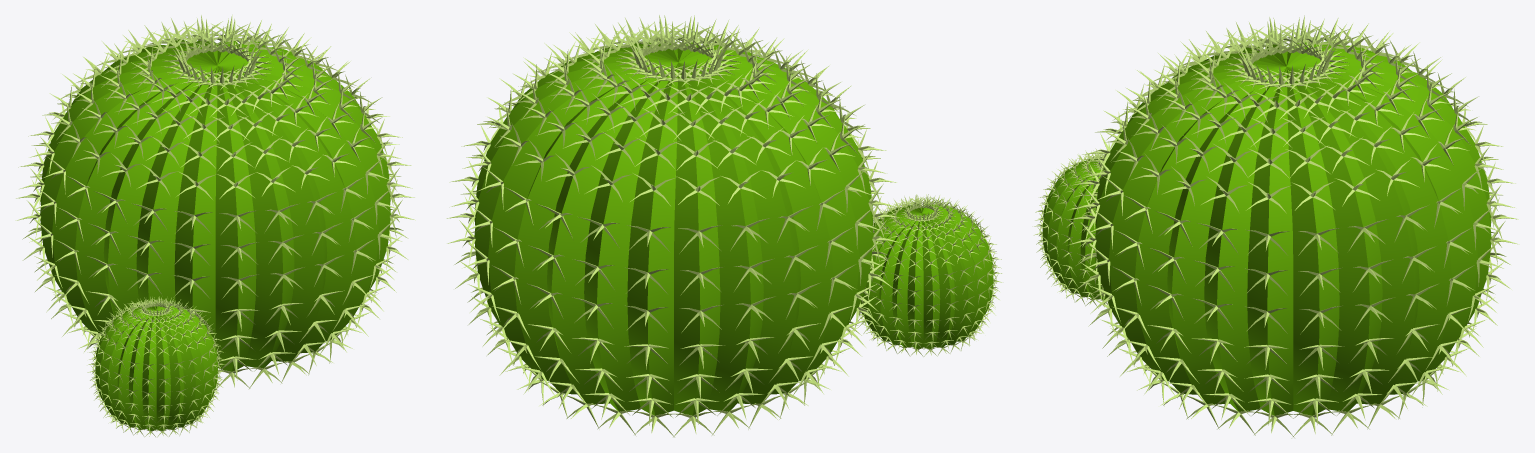
Rendered from Cactus.fbx.
The picture shows the model from 3 angles, left to right: view 1: azimuth 30°, elevation 25°; view 2: azimuth 150°, elevation 25°; view 3: azimuth 270°, elevation 25°; orthographic projection. The views are drawn at different scales.
Visible parts, largest first — view 1: RoundCactus; view 2: RoundCactus; view 3: RoundCactus.
Part boxes in pixels (x1,y1,x2,y2): RoundCactus: [15, 15, 415, 437]; RoundCactus: [446, 15, 1002, 437]; RoundCactus: [1033, 15, 1519, 438].
Size of the model in its own units: 101 by 75.98 by 101.
